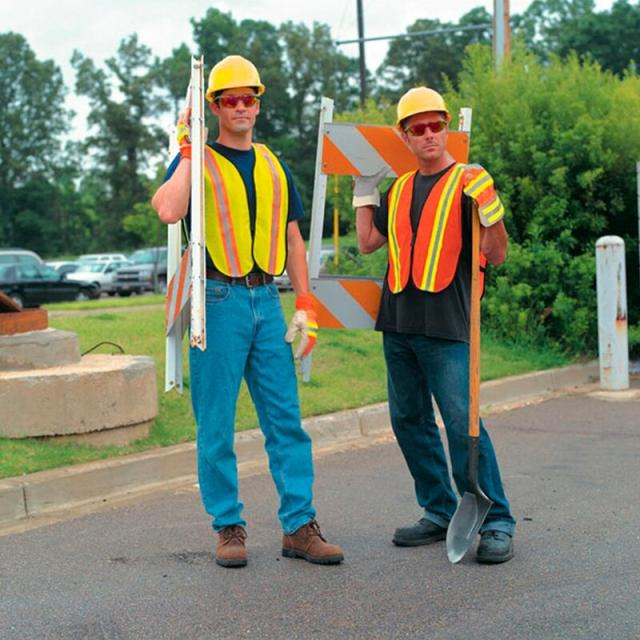goggles: (396, 119, 452, 140), (216, 92, 265, 115)
helmet: (190, 39, 270, 97), (372, 78, 459, 124)
vest: (377, 158, 516, 328), (183, 138, 309, 286)
